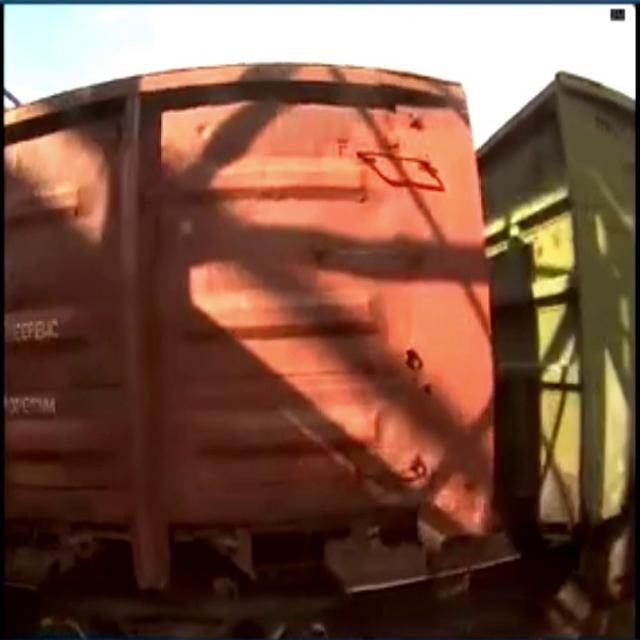gondola: (0, 39, 508, 640), (473, 57, 640, 634)
